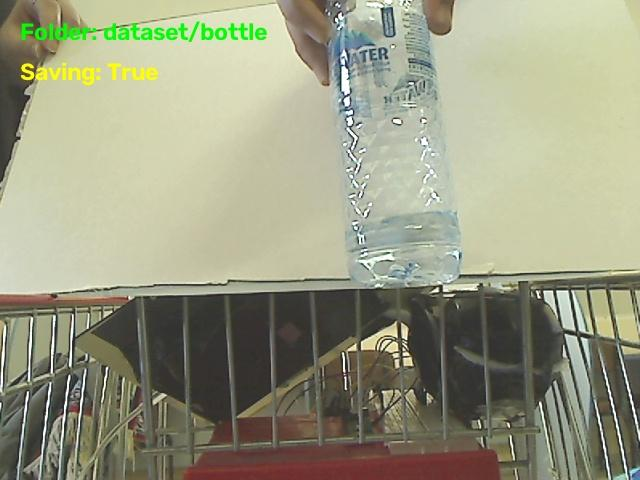Bottle: (327, 0, 459, 286)
